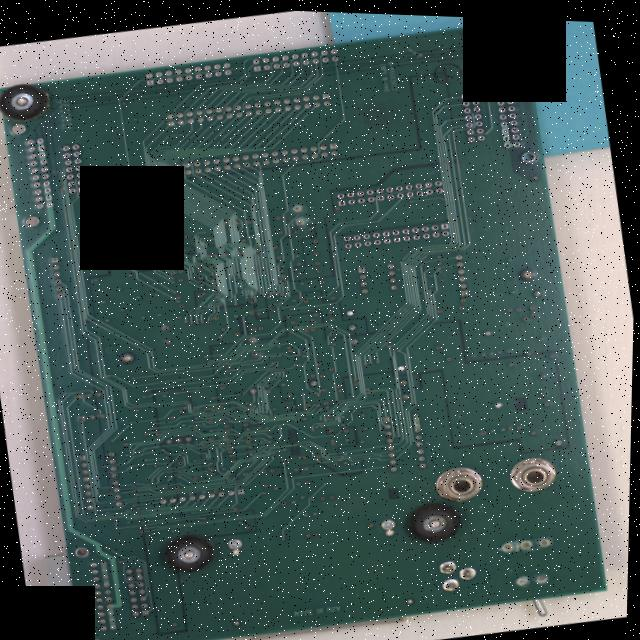2248: (526, 589, 554, 616)
2324: (376, 55, 400, 91)
2416: (292, 599, 346, 617)
2512: (434, 60, 458, 80)
2670: (54, 96, 76, 131)
connector: (334, 173, 446, 208)
connector J10: (489, 70, 525, 147)
connector J11: (341, 216, 452, 250)
connector J13: (434, 459, 488, 502)
connector J18: (250, 43, 340, 73)
connector J199: (143, 58, 234, 87)
connector J24: (23, 134, 57, 211)
connector J25: (59, 140, 90, 196)
connector J8: (508, 448, 560, 494)
connector J9: (457, 85, 488, 141)
pins J27: (49, 255, 67, 299)
pins unknown: (170, 134, 340, 181), (164, 85, 332, 132), (75, 445, 131, 514), (498, 529, 564, 587), (379, 406, 433, 473), (87, 557, 124, 635), (157, 482, 250, 510), (432, 550, 486, 593), (123, 562, 156, 619), (356, 257, 401, 294), (246, 375, 321, 396), (72, 387, 108, 424), (451, 249, 473, 295), (343, 304, 364, 346), (395, 361, 413, 398), (245, 333, 265, 358), (163, 432, 197, 446), (158, 321, 177, 346), (290, 202, 308, 226), (530, 283, 545, 295), (551, 433, 566, 444)
